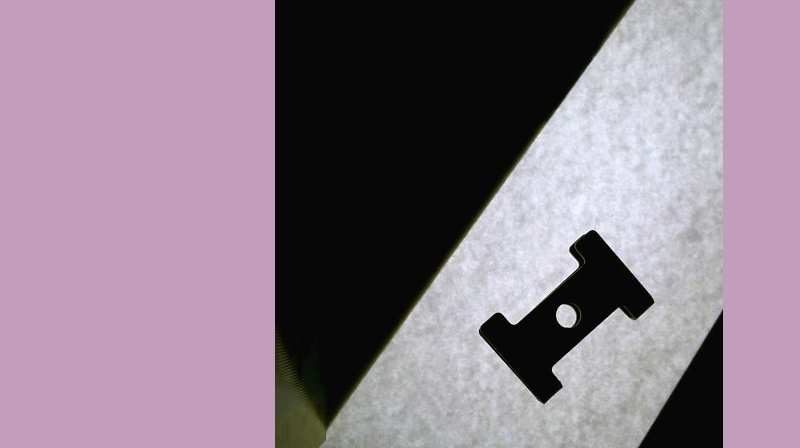O002: (476, 226, 658, 408)
